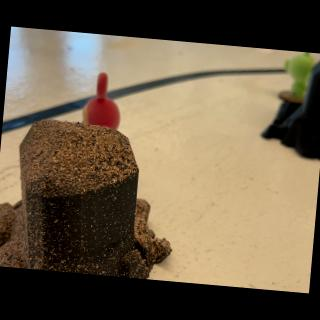teletubby: (83, 73, 120, 130), (284, 52, 316, 100)
